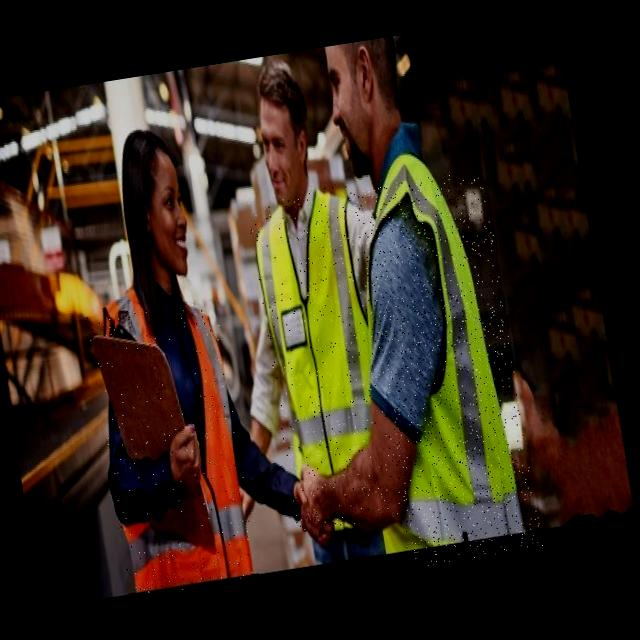no-gloves: (273, 452, 345, 544), (151, 419, 220, 504)
no-helmet: (305, 27, 418, 205), (107, 116, 204, 293), (232, 56, 327, 212)
vest: (350, 169, 543, 569), (245, 182, 402, 534), (86, 298, 260, 600)
